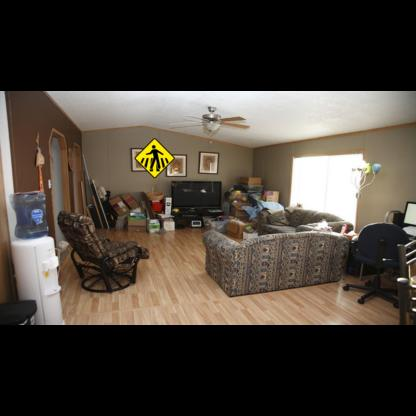A-32b: (134, 138, 175, 179)
